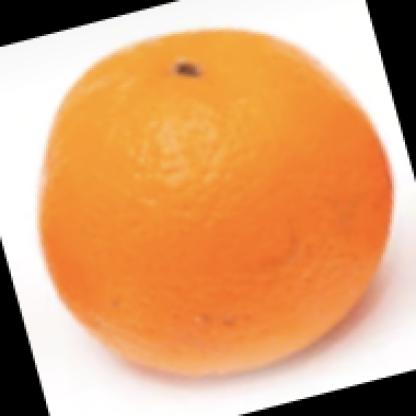fresh: (41, 30, 392, 374)
